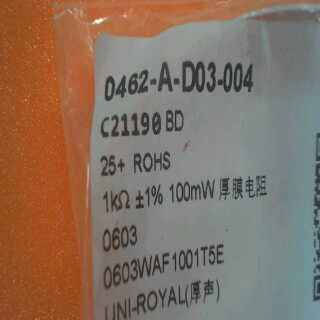1kR: (98, 185, 134, 217)
